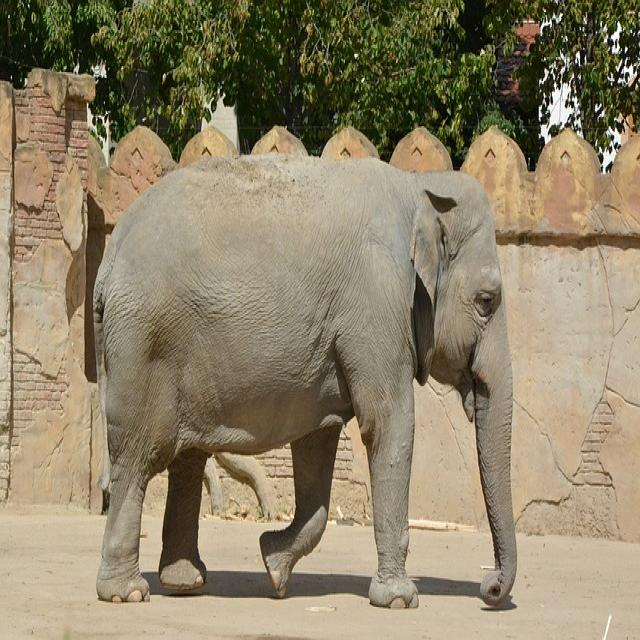elephant: (95, 158, 516, 608)
